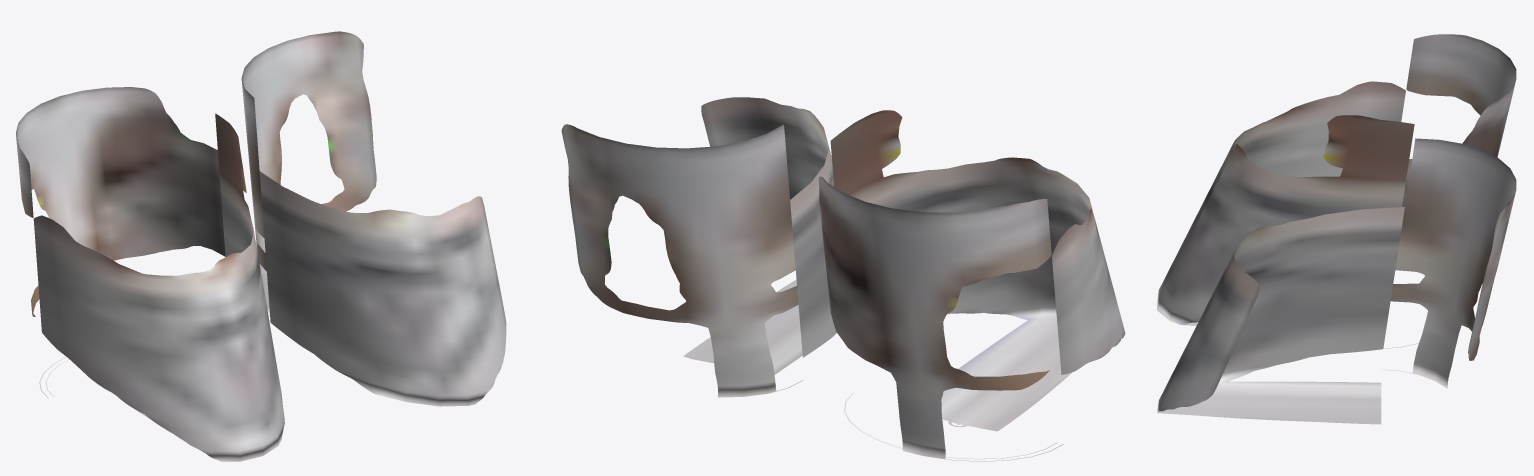
The model's file is prod-ae-silver-crystal-heels.glb.
3 renders of one model, left to right at view 1: azimuth 30°, elevation 25°; view 2: azimuth 150°, elevation 25°; view 3: azimuth 270°, elevation 25°, orthographic. The views are drawn at different scales.
Visible parts, largest first — view 1: prod-ae-silver-crystal-heels; view 2: prod-ae-silver-crystal-heels; view 3: prod-ae-silver-crystal-heels.
Part boxes in pixels (left/top/right/bottom): prod-ae-silver-crystal-heels: left=16, top=31, right=506, bottom=461; prod-ae-silver-crystal-heels: left=561, top=97, right=1125, bottom=461; prod-ae-silver-crystal-heels: left=1157, top=34, right=1516, bottom=424.
Bounding box in the file's own units: 0.1694 × 0.0983 × 0.1287.
Materials: 1 (1 with a texture image).
